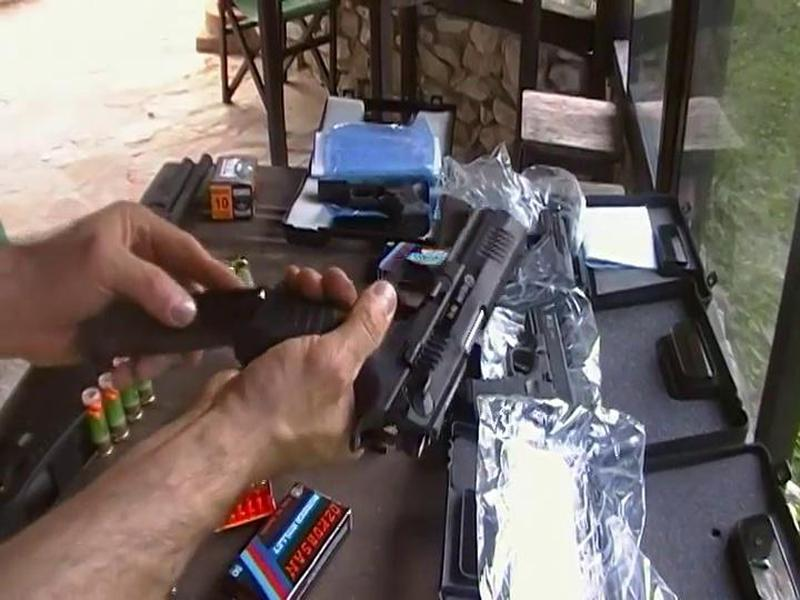Pistola: (247, 176, 548, 484)
